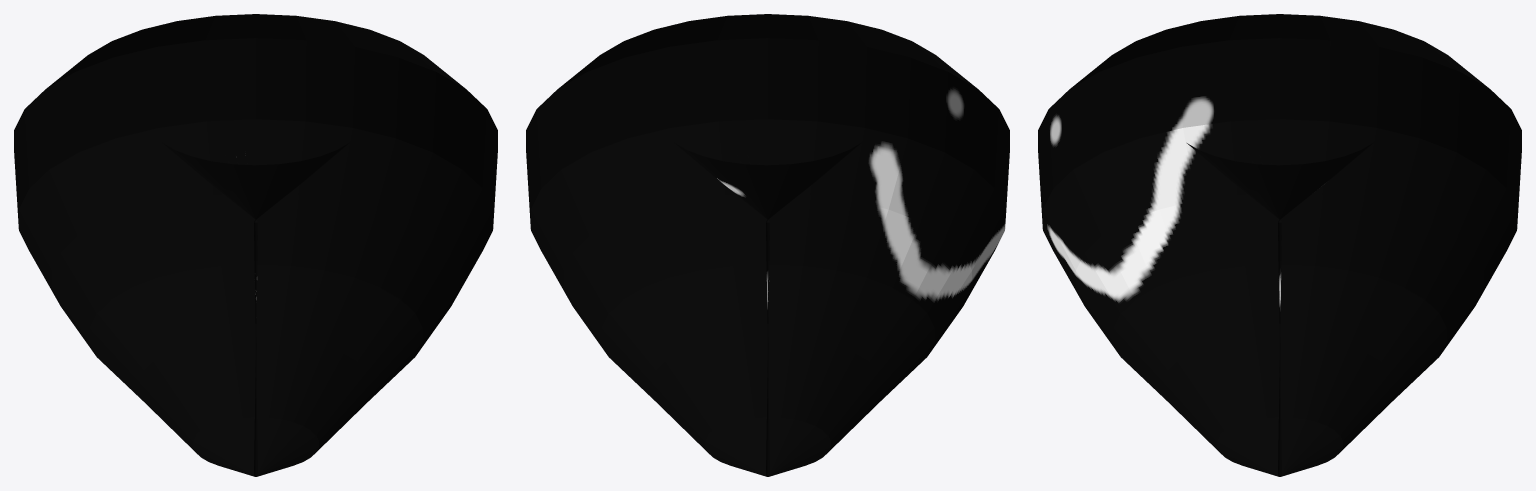
3 renders of one model, left to right at view 1: azimuth 30°, elevation 25°; view 2: azimuth 150°, elevation 25°; view 3: azimuth 270°, elevation 25°, orthographic.
Visible parts, largest first — view 1: algeomath; view 2: algeomath; view 3: algeomath.
Boxes of the visible parts, x1,y1,x2,y2 form: algeomath: (14, 14, 497, 476); algeomath: (526, 14, 1009, 476); algeomath: (1038, 14, 1521, 476).
Bounding box in the file's own units: 8.23 × 7.1 × 8.19.
1 material, 1 textured.
